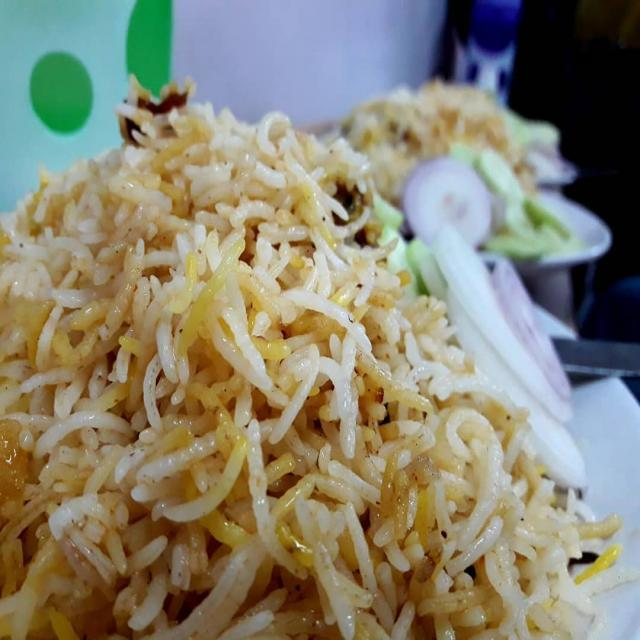biryani: (46, 67, 556, 621)
